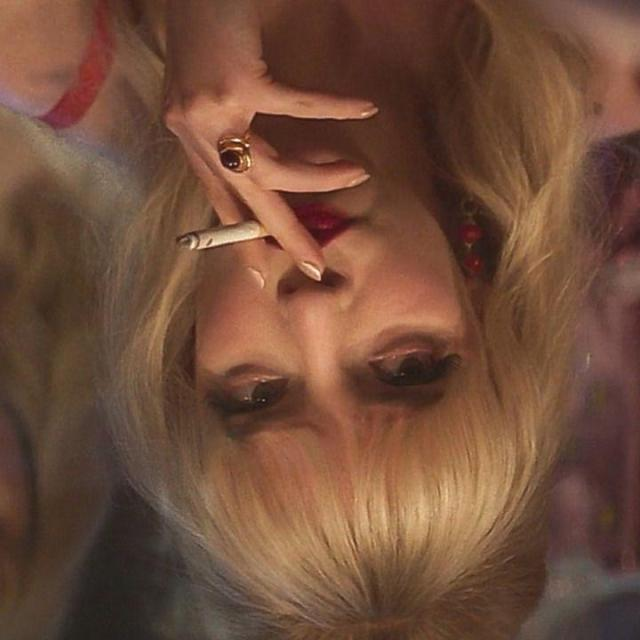smoke: (170, 206, 297, 272)
